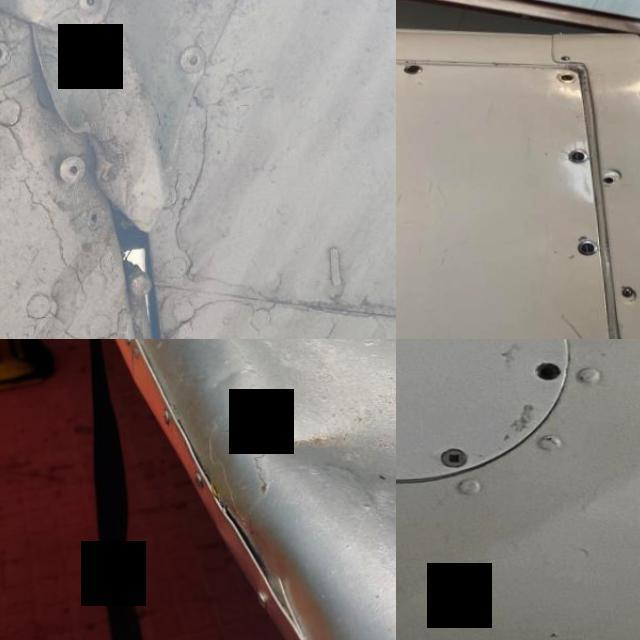Crack: (74, 125, 124, 198)
Dent: (232, 399, 362, 489)
Missing_Fastener: (532, 360, 562, 383), (600, 176, 615, 186)
